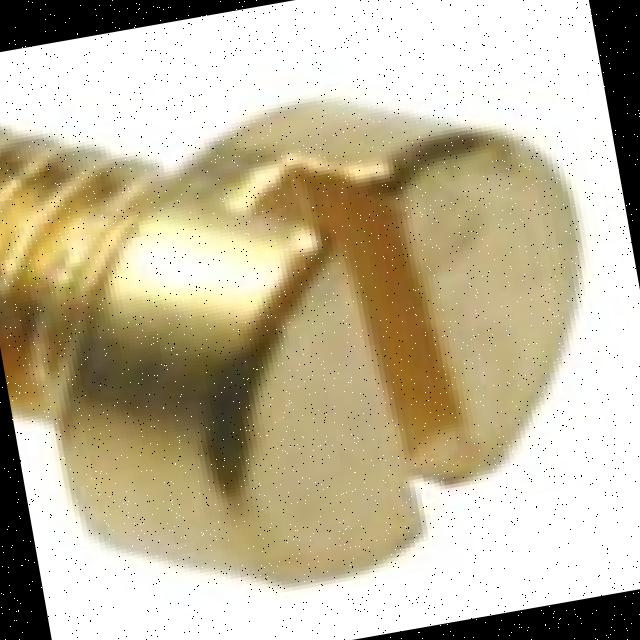Slotted: (13, 52, 640, 640)
